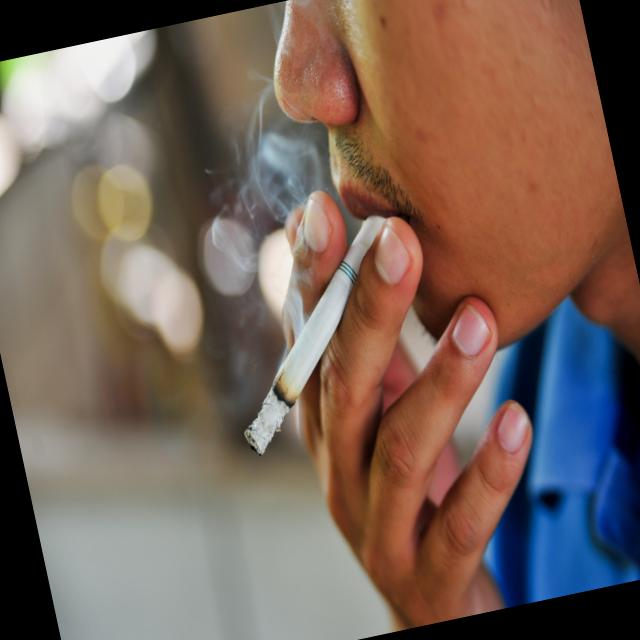smoke: (212, 258, 384, 462)
